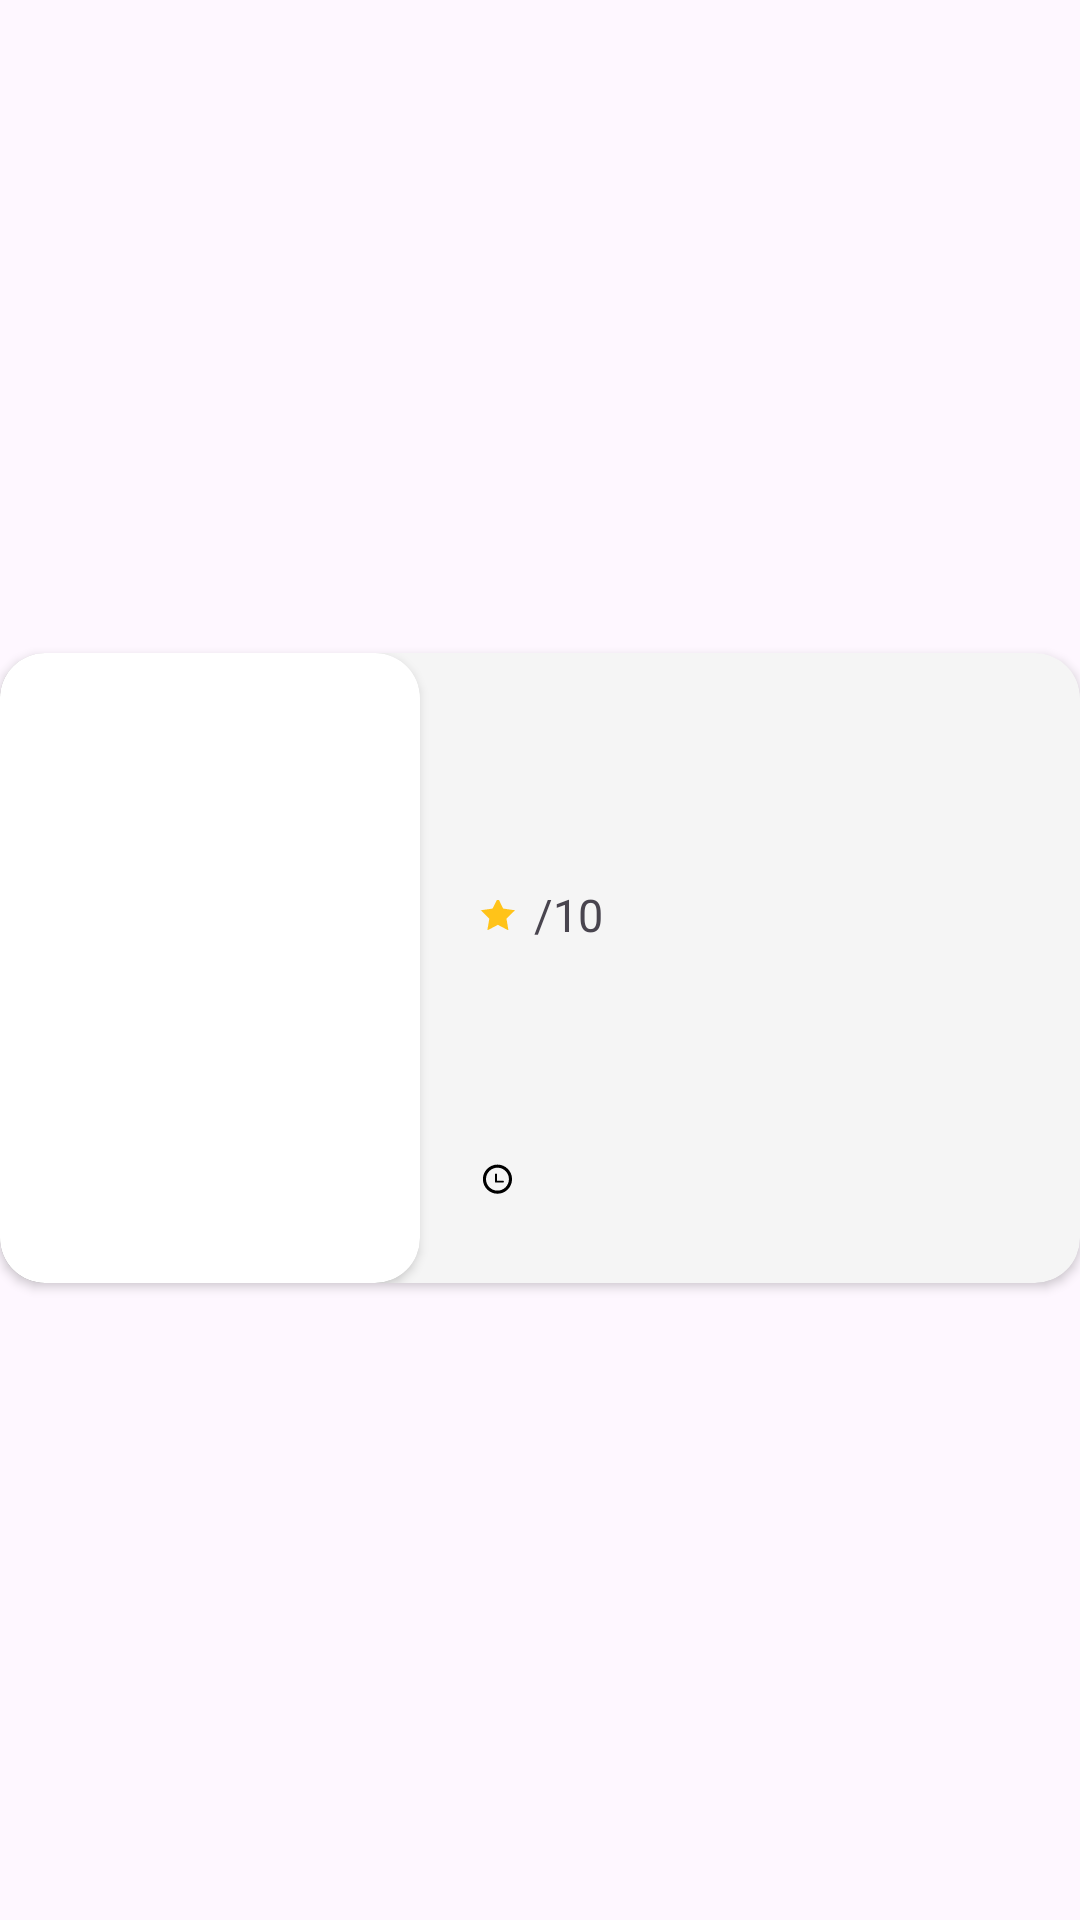

Named icons in this screenshot (1080w x 1920h) and their bounding boxes, bbox=(x1, y1, x2, y2):
clock: bbox=(483, 1164, 512, 1194)
star: bbox=(481, 900, 515, 930)
